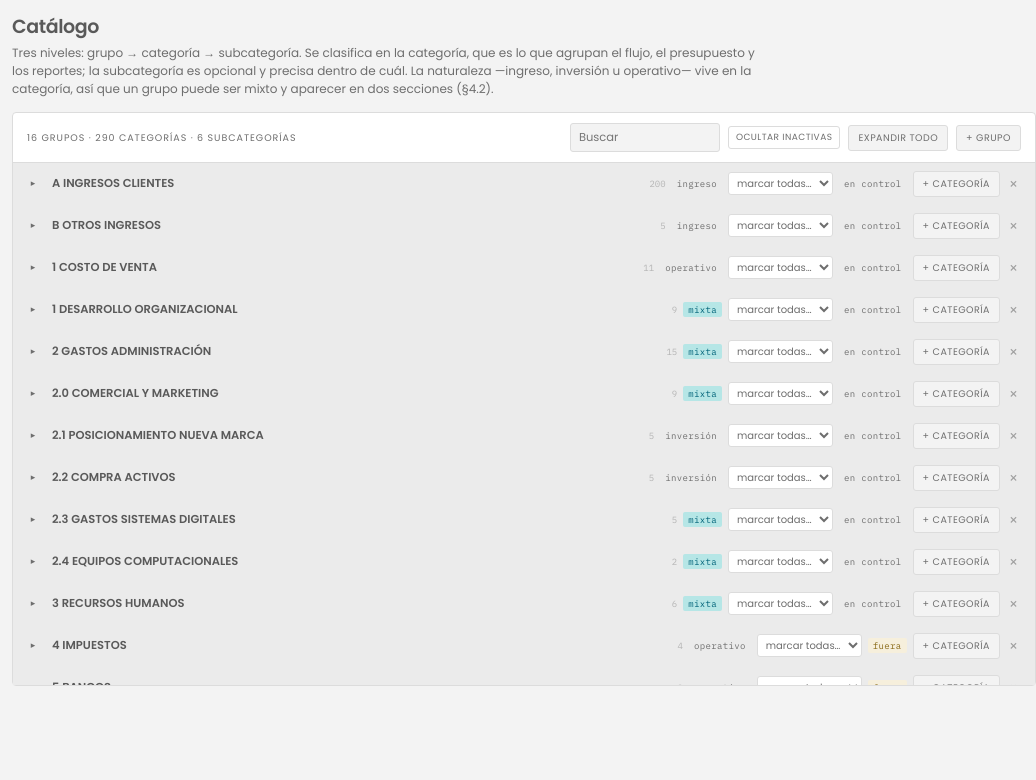
Test: Catálogo › marcar todas las categorías de un grupo confirma y dice cuántas toca
Select "inversión" in the dropdown named "Marcar todas las categorías de A INGRESOS CLIENTES con una naturaleza" at [780, 184], box x1=728 y1=172 x2=833 y2=195
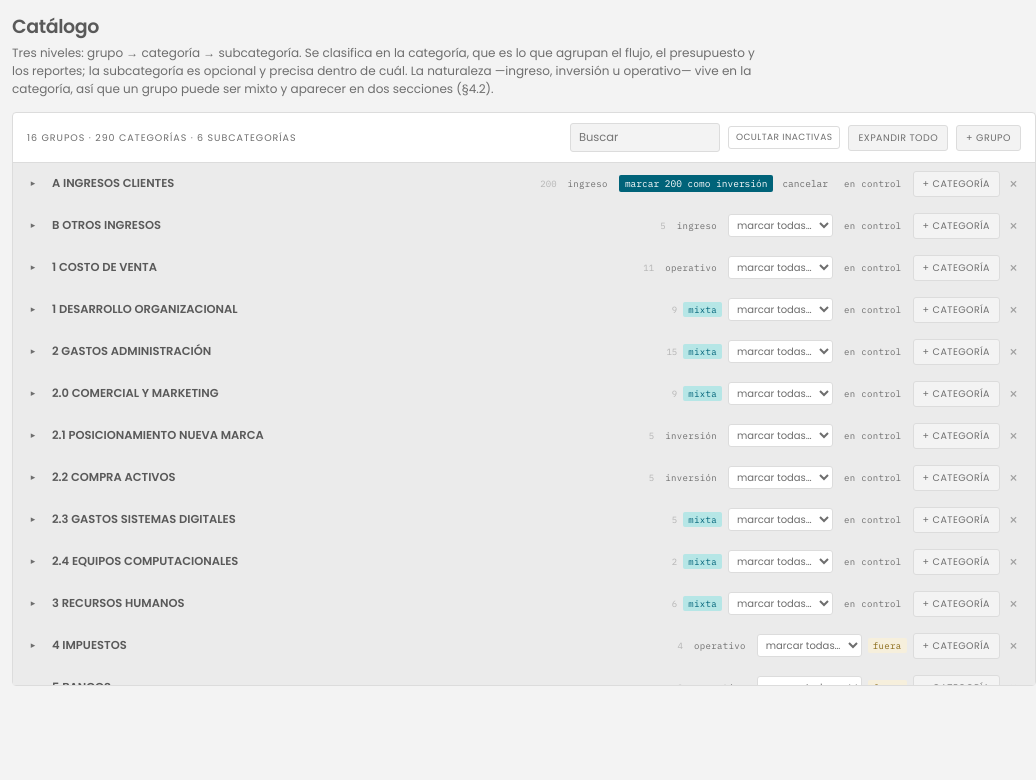
Result: the button "marcar 200 como inversión" is shown at x1=619 y1=175 x2=773 y2=192
// Cancelar no cambia nada.
Click the button "cancelar" at [805, 184], box x1=777 y1=175 x2=833 y2=192
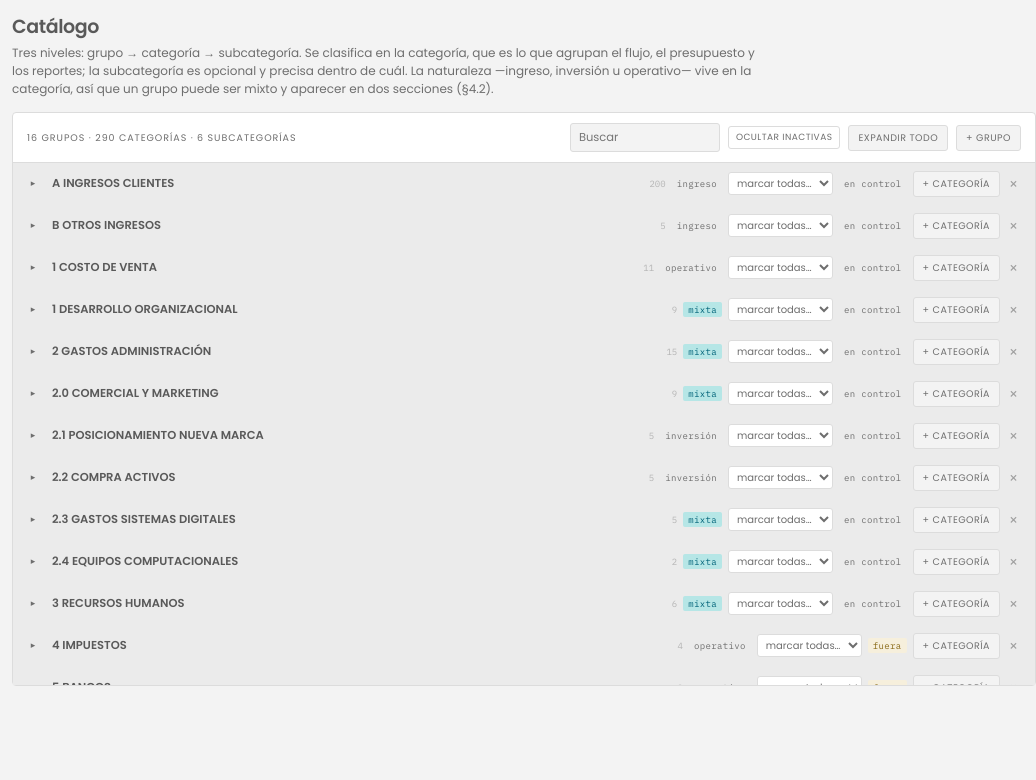
Type "AASA" into the field named "Buscar en el catálogo" at [645, 138], box x1=570 y1=123 x2=720 y2=152
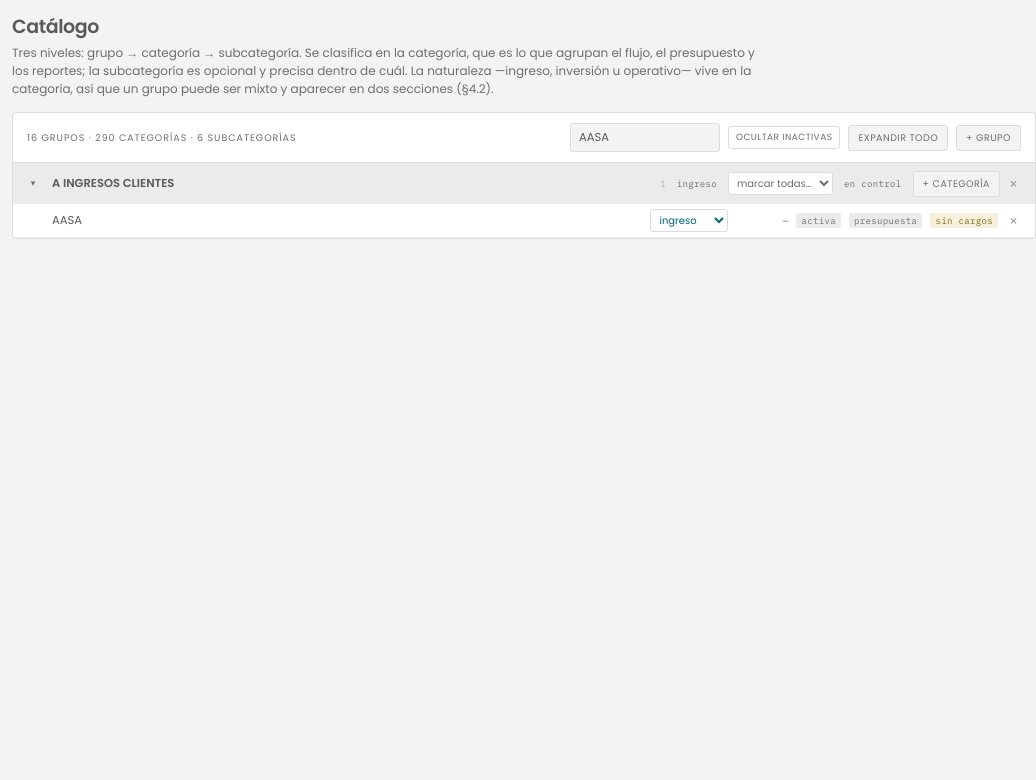
Result: the dropdown named "Naturaleza de AASA" shows "ingreso" at x1=650 y1=209 x2=728 y2=232
